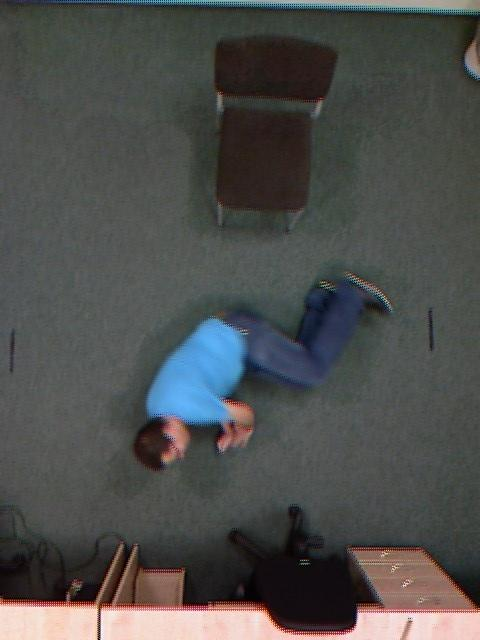fall: (191, 189, 339, 551)
